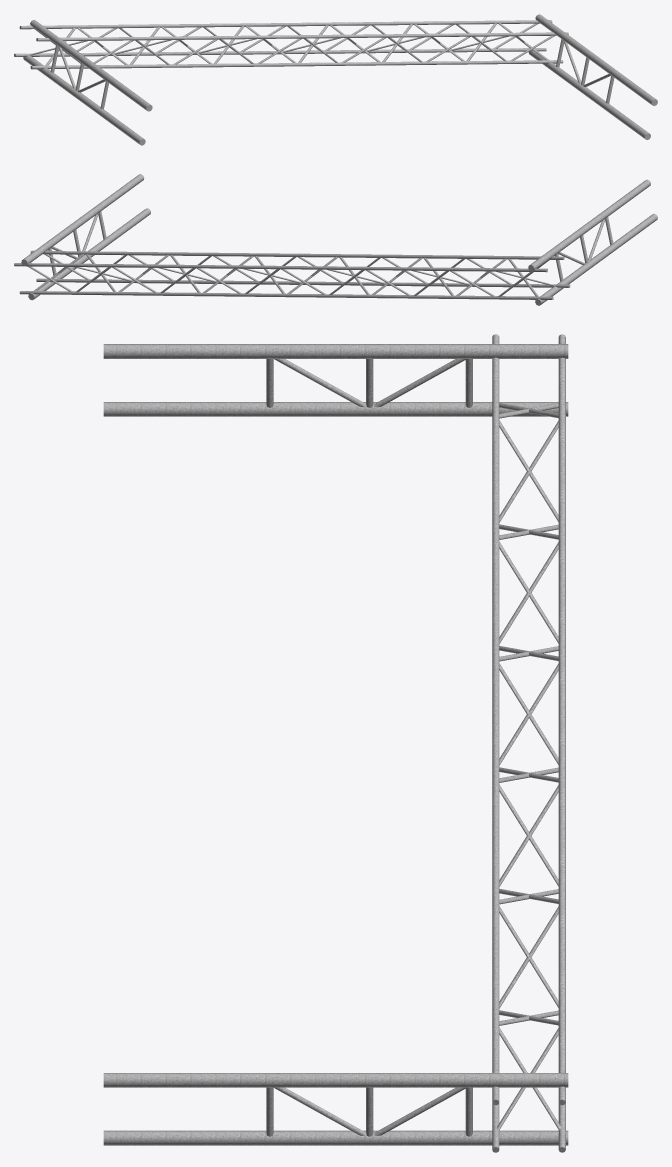
Rendered from _1BRIDGE_AD01_EMIRATES_SUB0_Scene.208.obj.
The picture shows the model from 3 angles, top to bottom: view 1: azimuth 30°, elevation 25°; view 2: azimuth 150°, elevation 25°; view 3: azimuth 270°, elevation 25°; orthographic projection. The views are drawn at different scales.
Visible parts, largest first — view 1: _1BRIDGE_AD01_EMIRATES_SUB0_Scene.208; view 2: _1BRIDGE_AD01_EMIRATES_SUB0_Scene.208; view 3: _1BRIDGE_AD01_EMIRATES_SUB0_Scene.208.
Boxes of the visible parts, x1,y1,x2,y2 form: _1BRIDGE_AD01_EMIRATES_SUB0_Scene.208: (14,14,657,145); _1BRIDGE_AD01_EMIRATES_SUB0_Scene.208: (14,174,657,305); _1BRIDGE_AD01_EMIRATES_SUB0_Scene.208: (103,334,568,1152).
Bounding box in the file's own units: 18.67 × 5.21 × 7.
